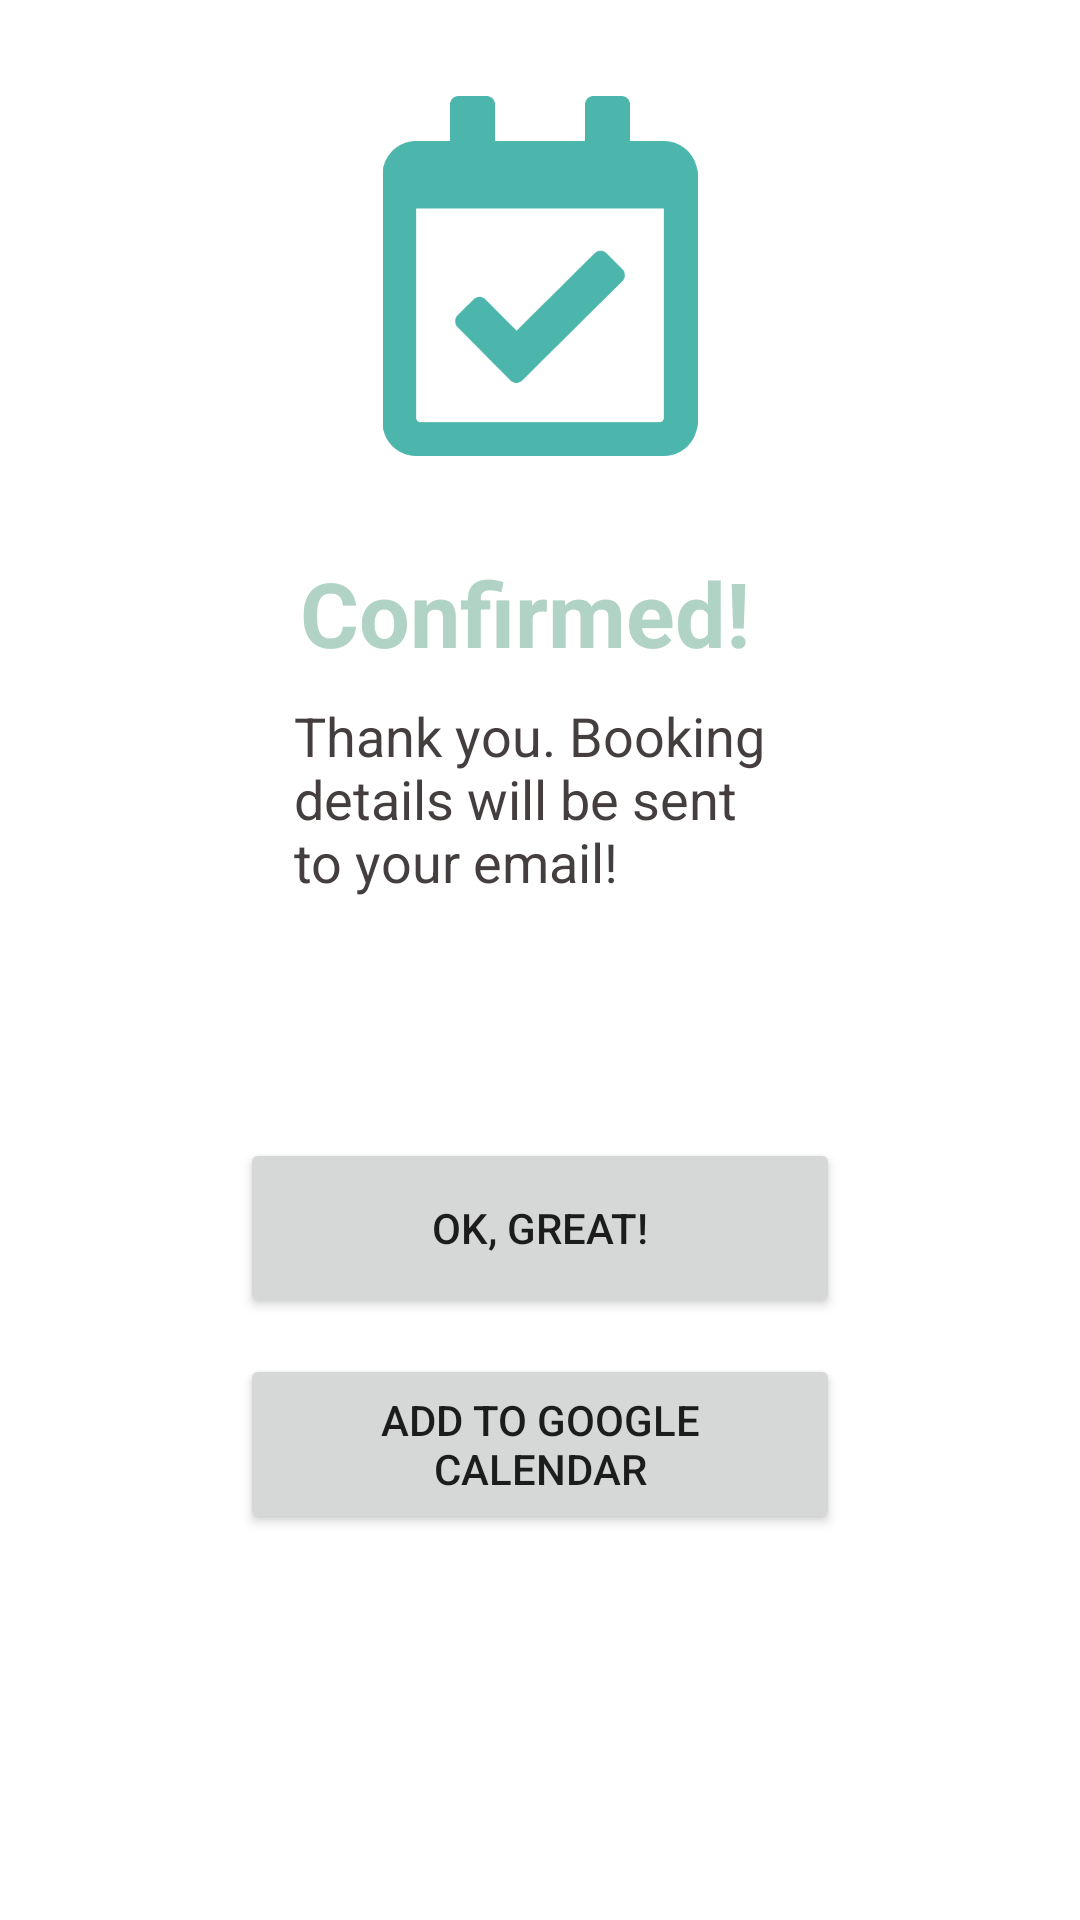

Icons on this 1080 × 1920 Android screen, each with the point to tap as [x,y]:
calendar: [540,276]
